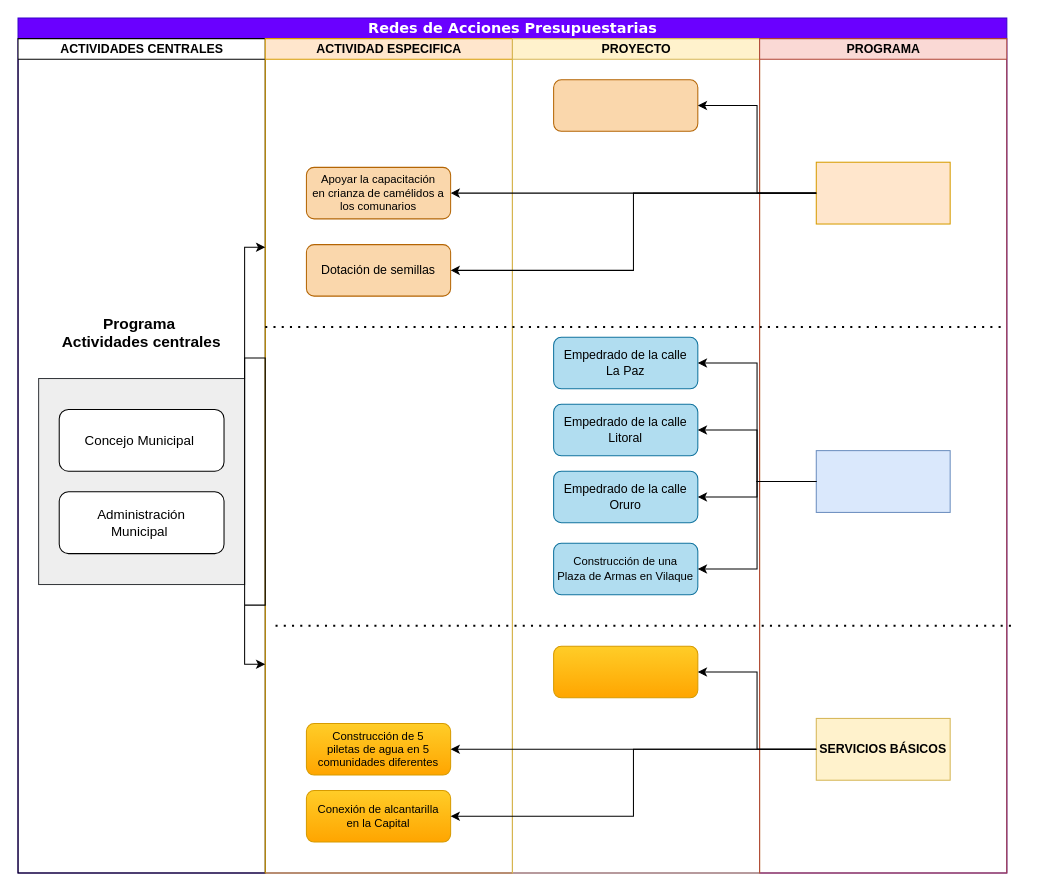
Image size: 1037x891. Some labels were removed from this diagram. Here are the shapes that lost their labels. From the top down, the centre of each, then its label:
At (625,105): "Construcción de un sistema de riego para la zona Este".
At (882,192): "DESARROLLO PRODUCTIVO".
At (882,481): "INFRAESTRUCTURA URBANA".
At (625,671): "Estudio de agua potable para la zona oeste".
